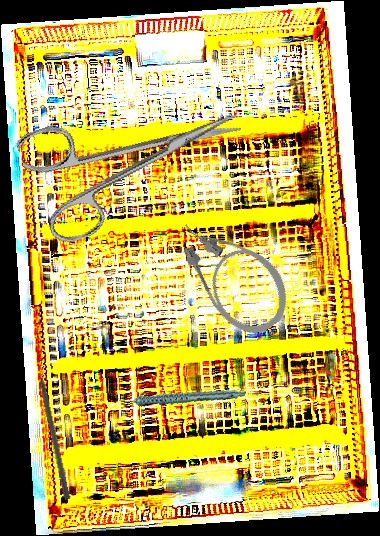Cannula: (165, 197, 302, 347)
Handpiece: (114, 369, 246, 424)
Iris Scissors: (14, 70, 258, 249)
Pusher: (33, 355, 73, 501)
